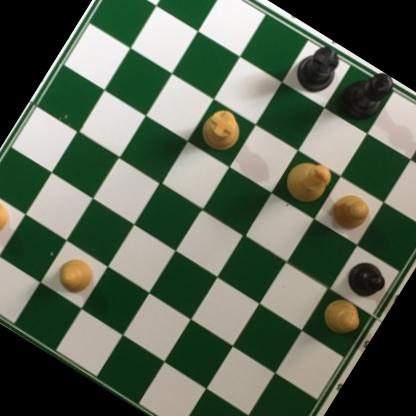black-king: (333, 60, 398, 130)
black-pawn: (340, 252, 393, 305)
black-rook: (289, 33, 351, 101)
white-king: (276, 148, 338, 211)
white-pawn: (50, 249, 102, 301), (317, 292, 369, 342), (325, 186, 375, 237), (0, 189, 17, 239)
white-rook: (193, 98, 252, 159)
